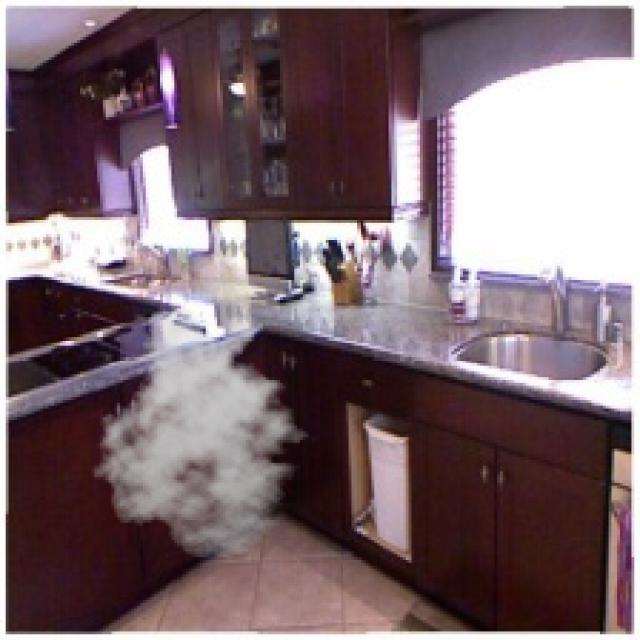smoke: (86, 303, 320, 560)
